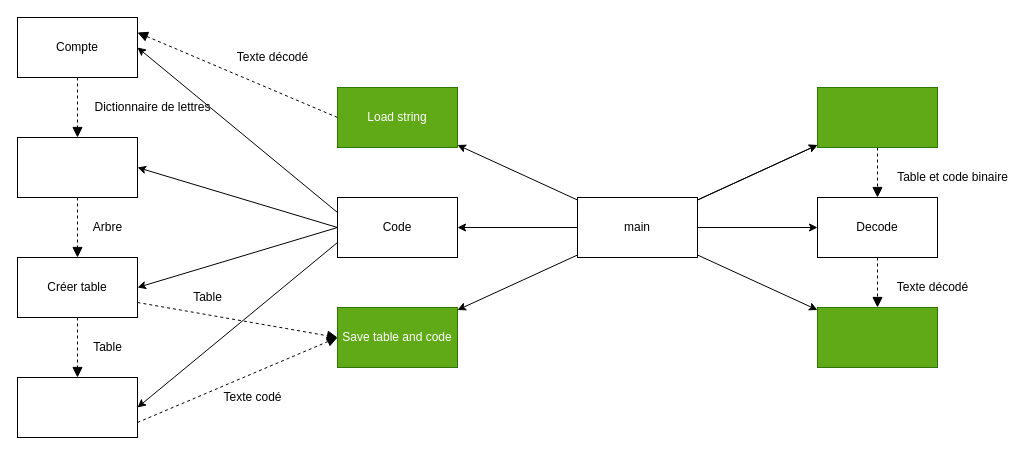
The diagram is 1035 pixels wide and 455 high, and some of its shapes have lost their labels. Here are the shapes that lost their labels. From the top down, the centre of each, then its label:
At point (877, 117): "Load table and code".
At point (77, 167): "Créer arbre".
At point (877, 337): "Save string".
At point (77, 407): "Encoder texte".
